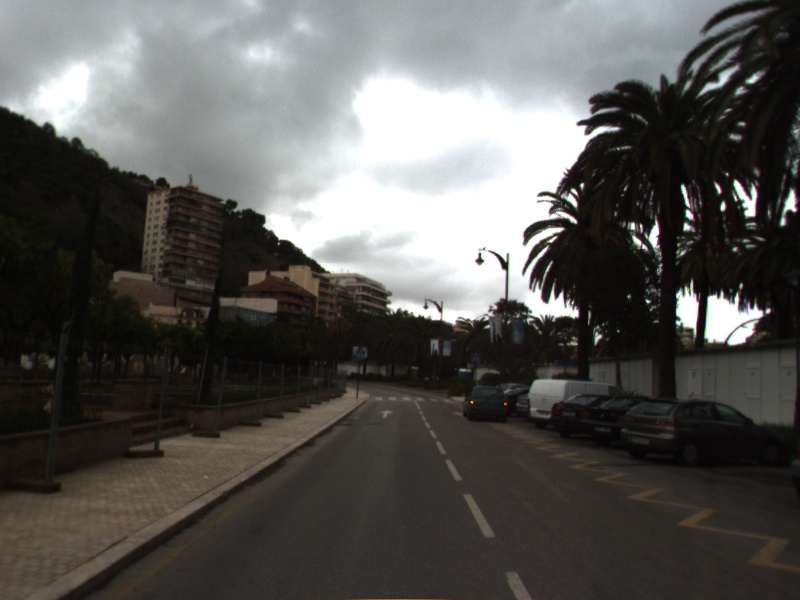STRAIGHT: (377, 408, 396, 420)
